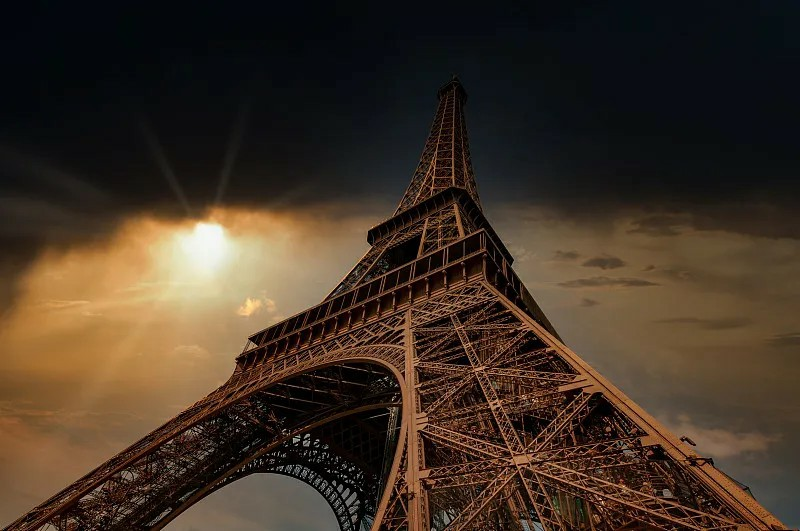Eiffel: (2, 74, 790, 531)
